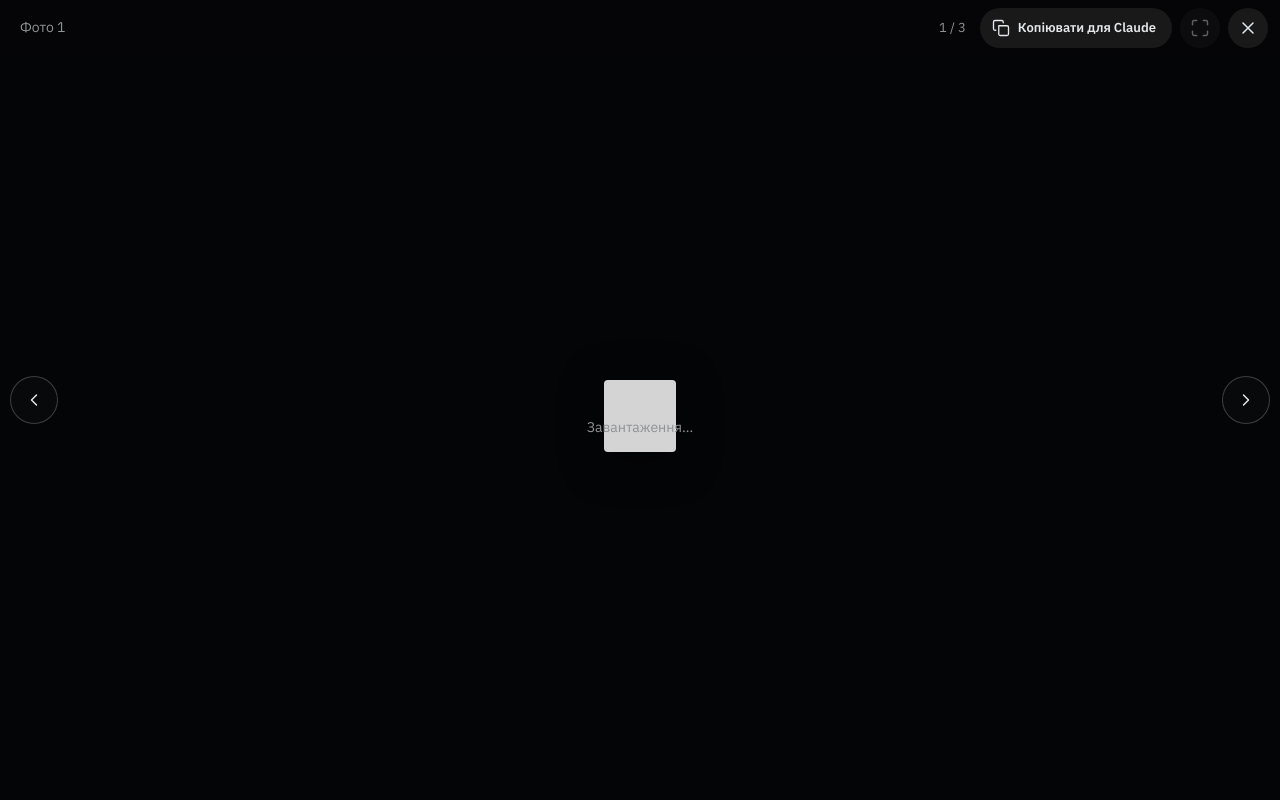
Test case: ImageViewer: "Копіювати для Claude" › copies the current image's reference; after stepping, the next one's; the viewer stays open
The image size is (1280, 800).
Click the button "Копіювати для Claude": {"x": 1076, "y": 28} [980,8,1172,48]
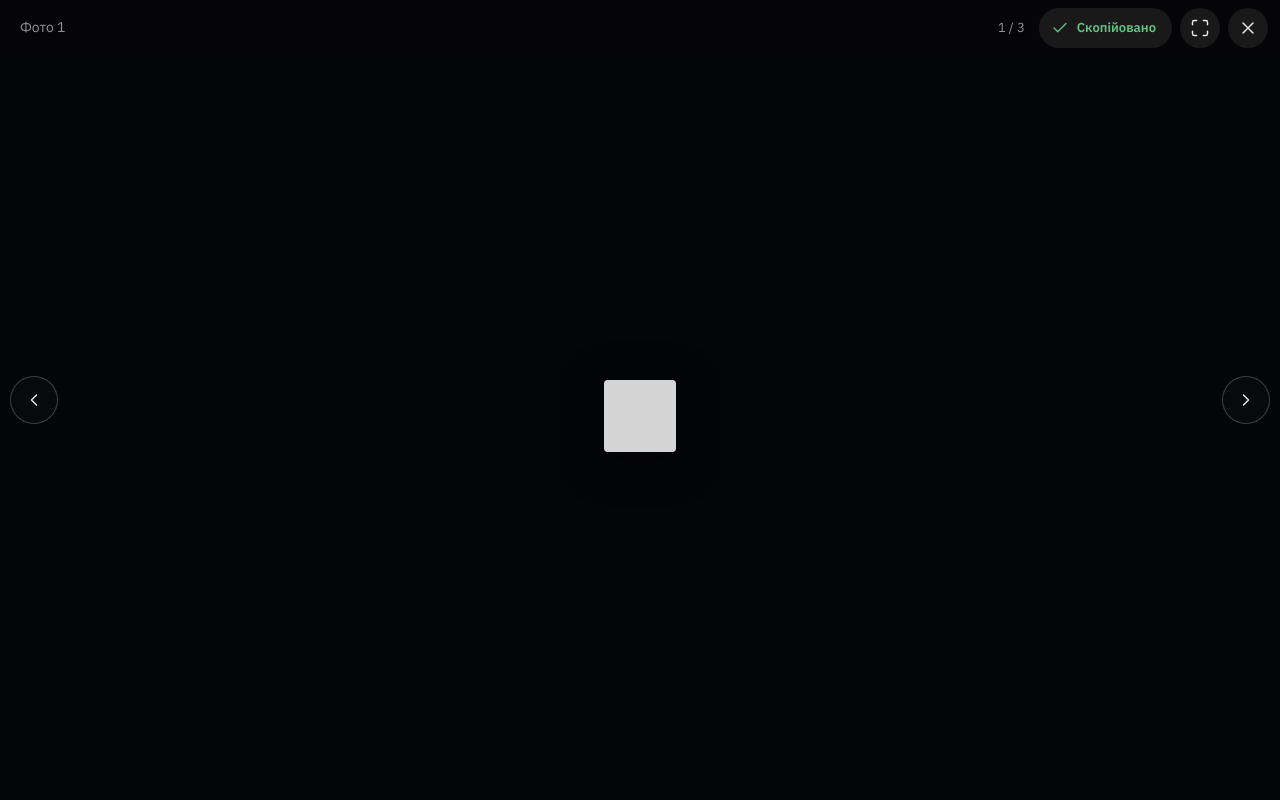
Check: the text "1 / 3" is shown, box [998,19,1025,36]
Check: the button with test id "viewer-copy-ref" reads "Скопійовано", box [1039,8,1172,48]
Click the button named "Наступне (→)": {"x": 1246, "y": 400} [1222,376,1270,424]
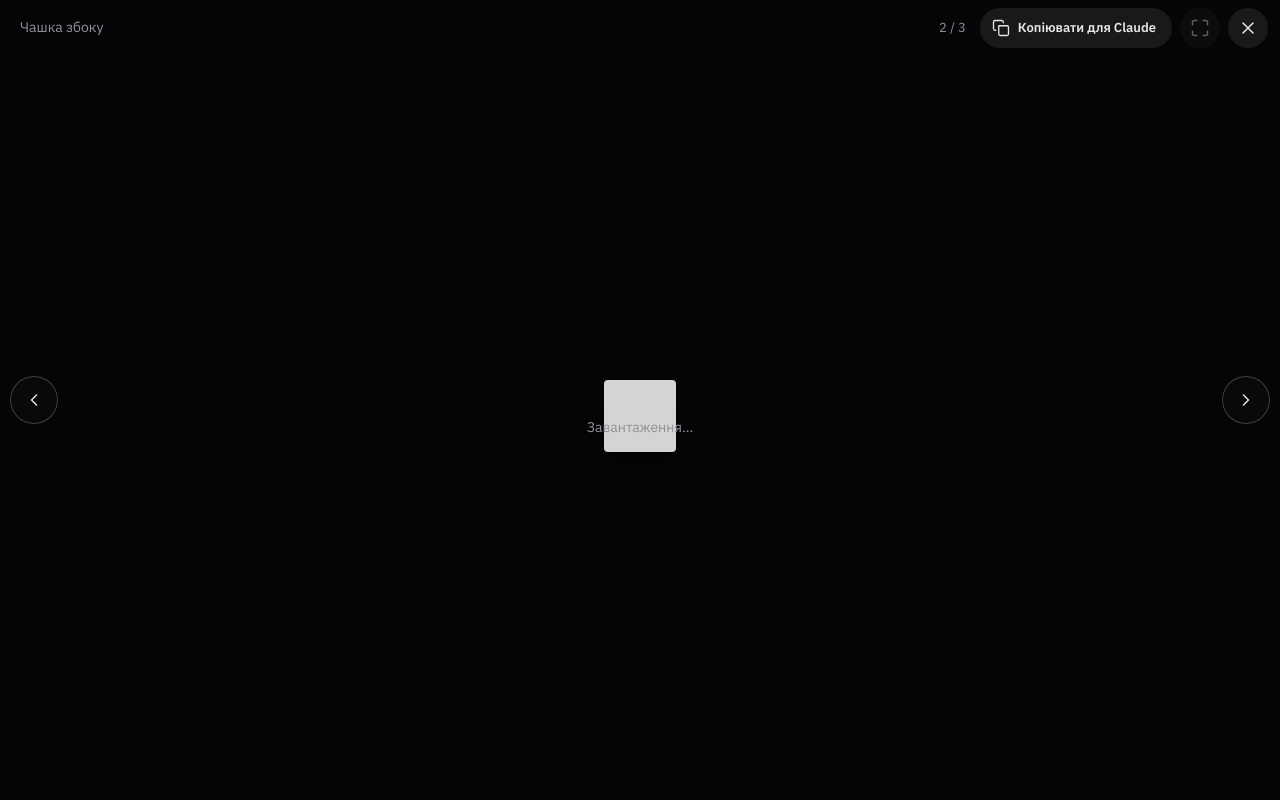
Check: the button with test id "viewer-copy-ref" reads "Копіювати для Claude"
Click the button with test id "viewer-copy-ref": {"x": 1076, "y": 28} [980,8,1172,48]
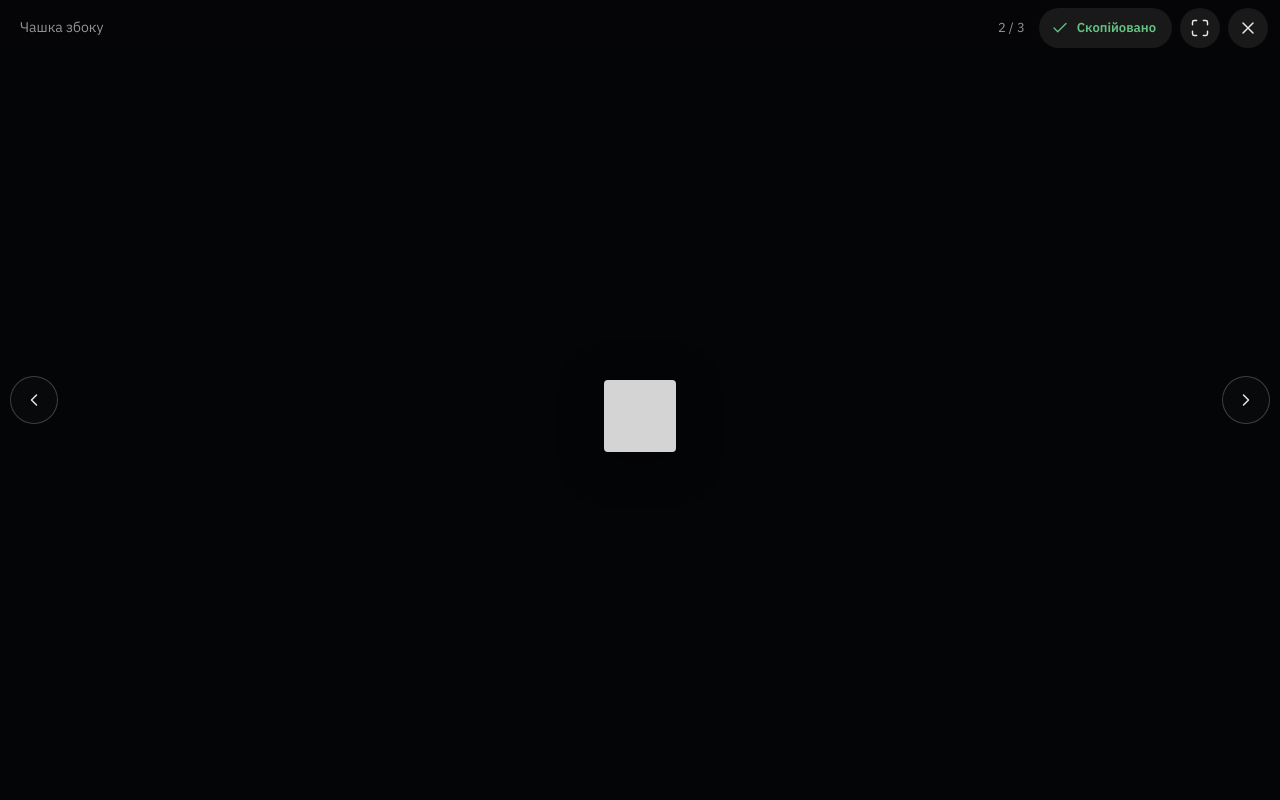
Press ArrowRight in the dialog named "Перегляд зображення"
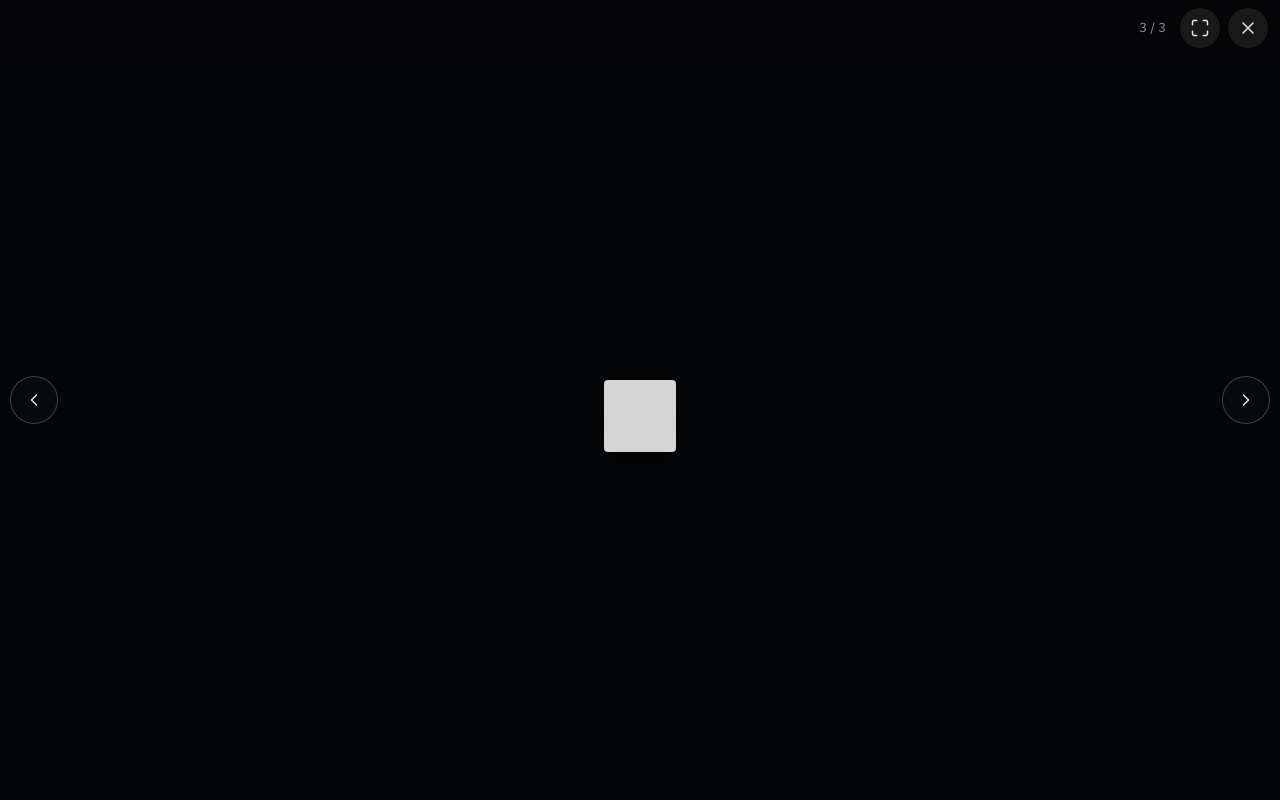
Check: the button with test id "viewer-copy-ref" is gone
